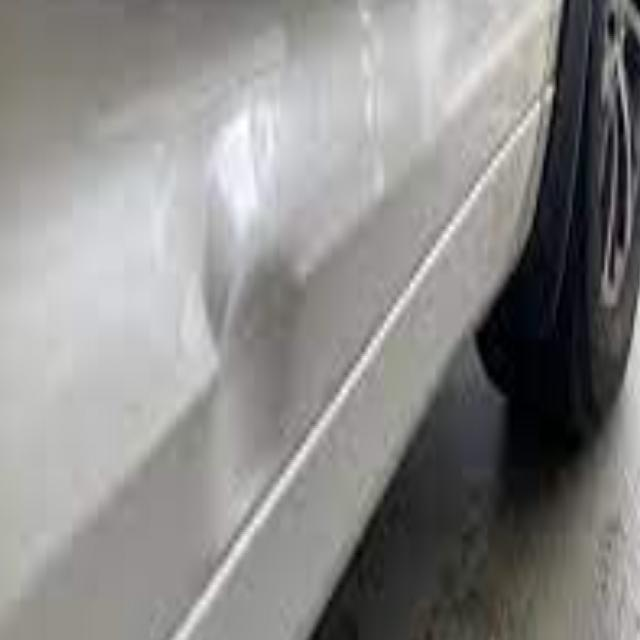dents: (185, 245, 314, 539)
